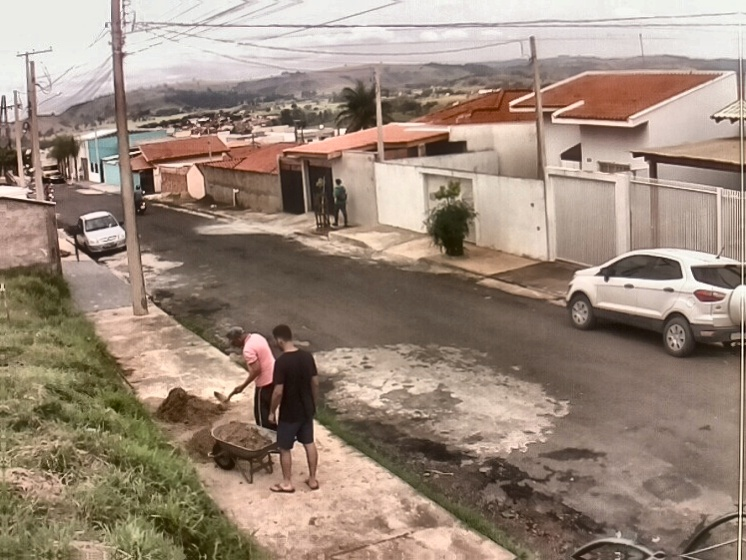person: (268, 325, 322, 495), (225, 325, 279, 431), (332, 177, 351, 229), (133, 185, 146, 207)
